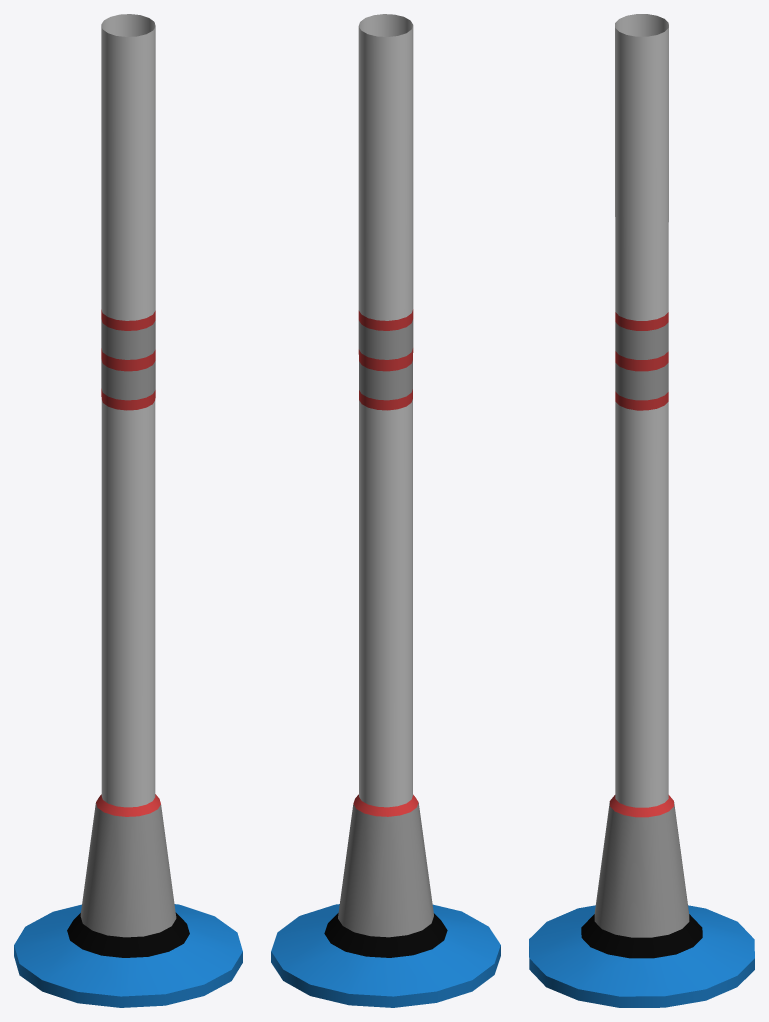
The model's file is LS_Stand_2.fbx.
3 renders of one model, left to right at view 1: azimuth 30°, elevation 25°; view 2: azimuth 150°, elevation 25°; view 3: azimuth 270°, elevation 25°, orthographic.
Visible parts, largest first — view 1: LS_Stand_2; view 2: LS_Stand_2; view 3: LS_Stand_2.
Part boxes in pixels (x1,y1,x2,y2): LS_Stand_2: [14, 14, 242, 1007]; LS_Stand_2: [271, 14, 500, 1007]; LS_Stand_2: [529, 14, 754, 1007].
Bounding box in the file's own units: 276 × 1260 × 276.
